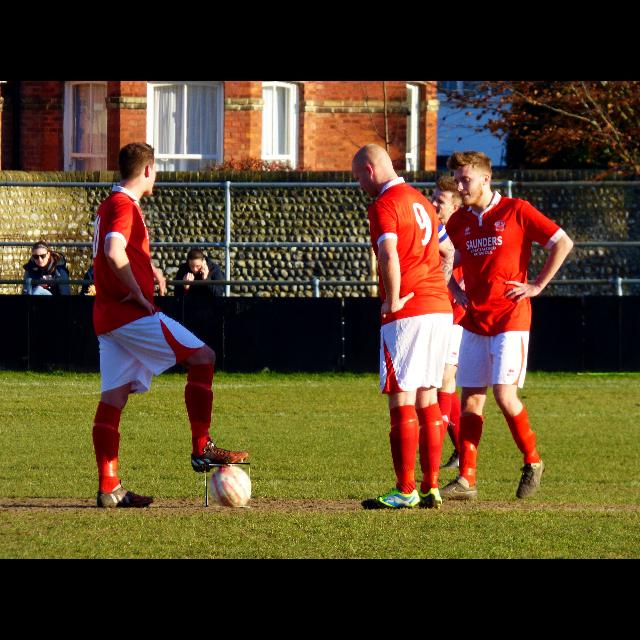Football: (206, 463, 250, 507)
